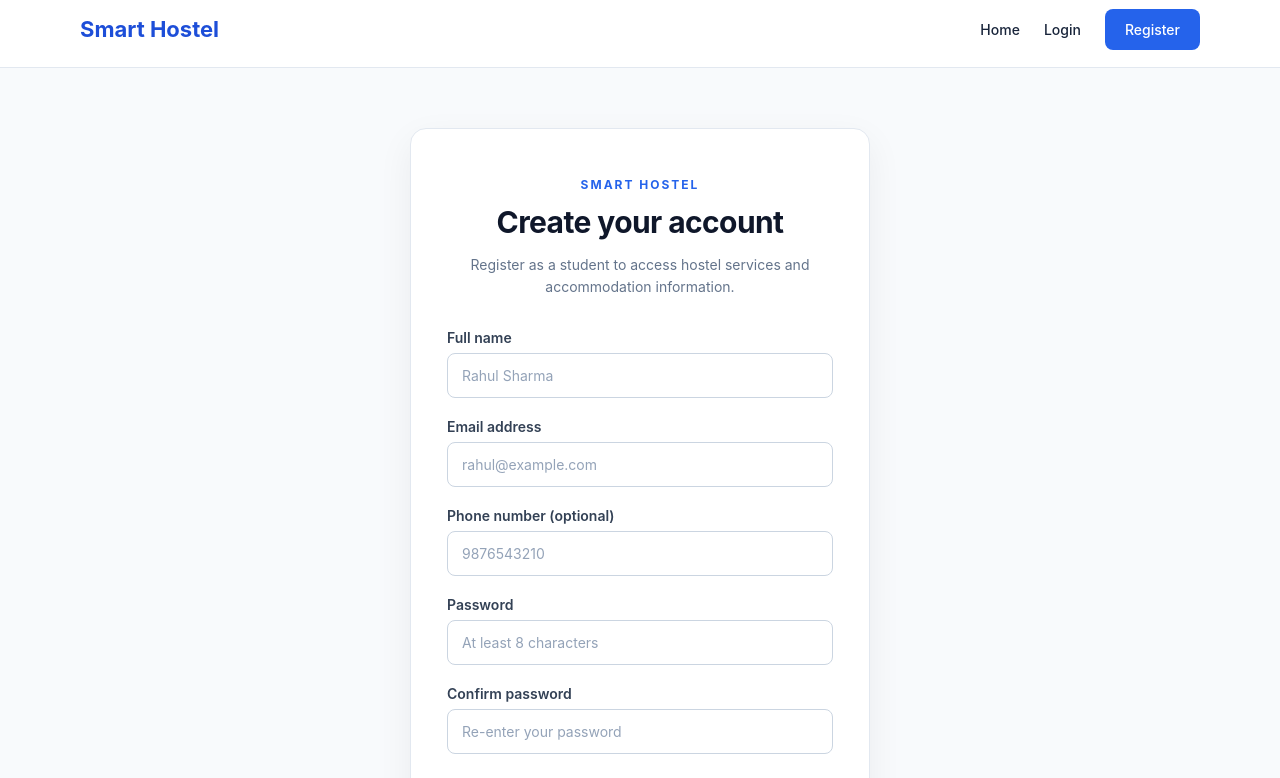
Test case: Authentication integration › registers a student and opens the login page
This screenshot has width=1280, height=778.
Expected: the heading "Create your account" is shown, x1=496 y1=204 x2=783 y2=240
Type "New Student" into the field labelled "Full name" at (640, 375), box x1=447 y1=353 x2=833 y2=398
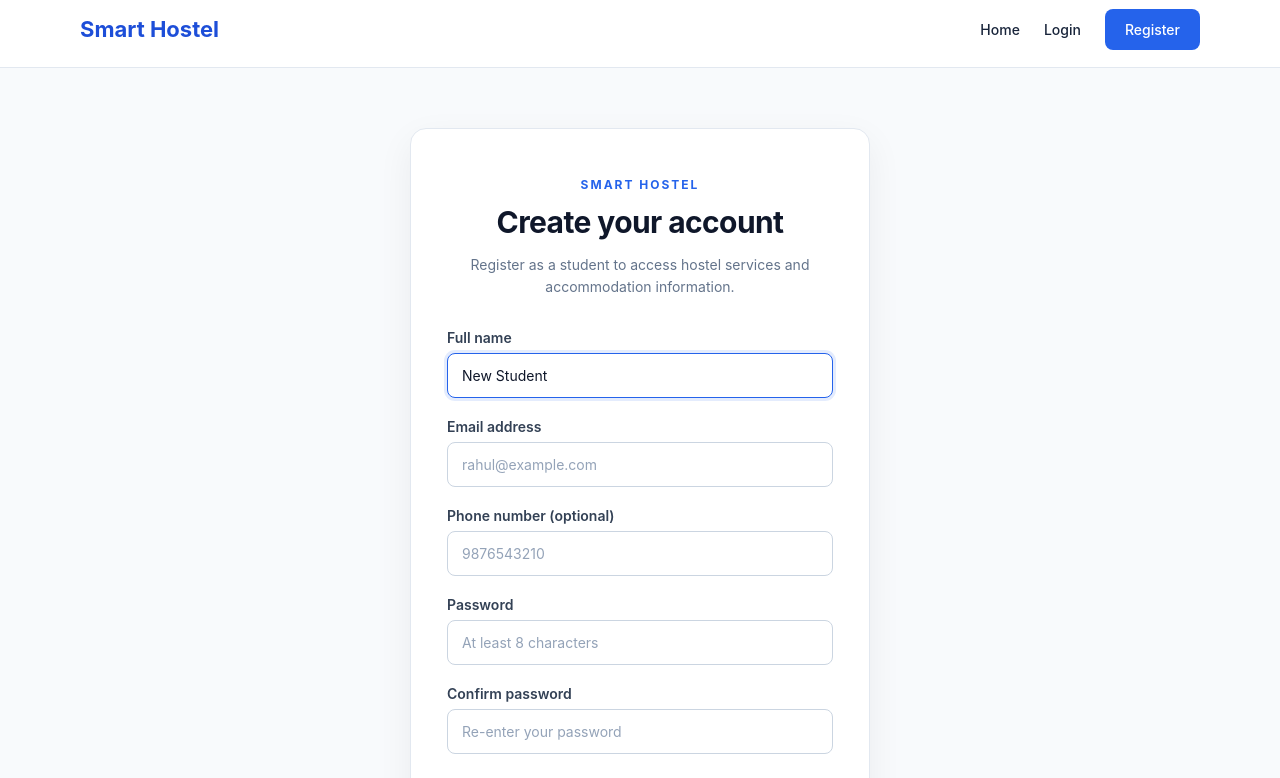
Type "new.student@example.com" into the field labelled "Email address" at (640, 464), box x1=447 y1=442 x2=833 y2=487
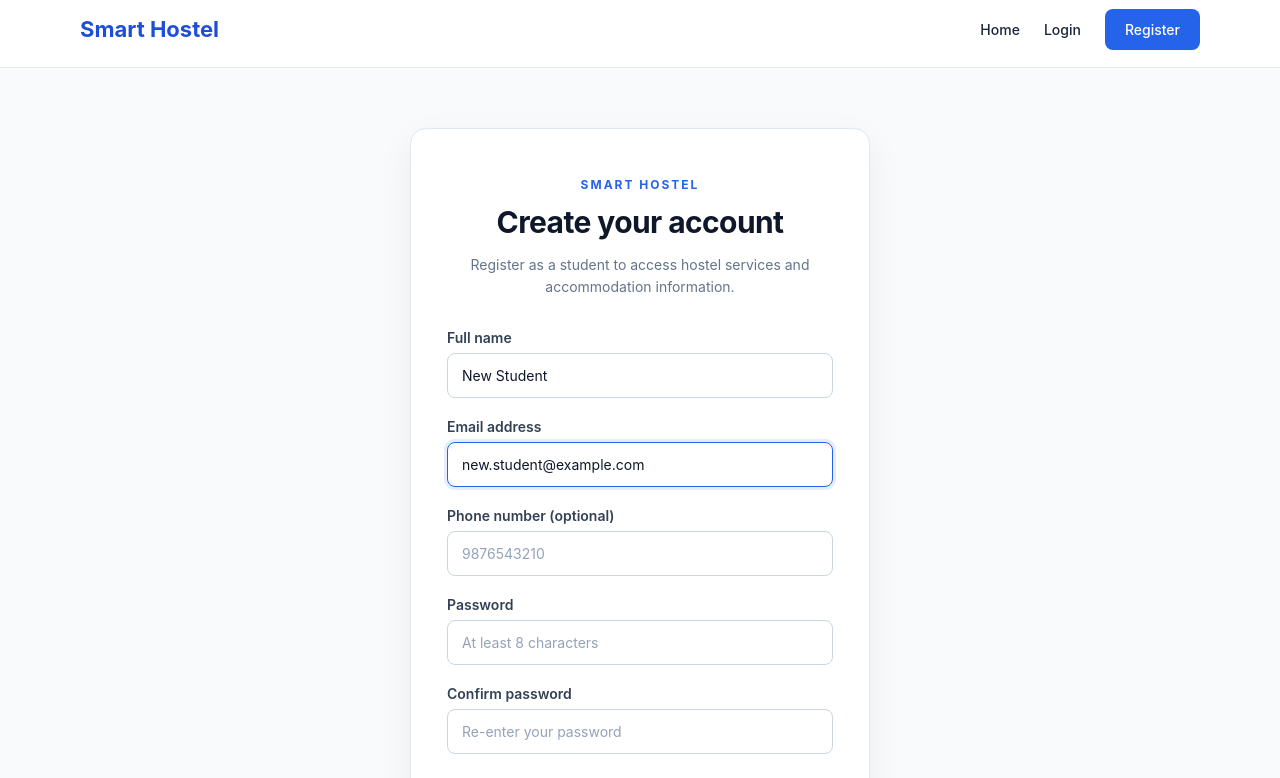
Type "NewPass@123" into the password field labelled "Password" at (640, 642), box x1=447 y1=620 x2=833 y2=665
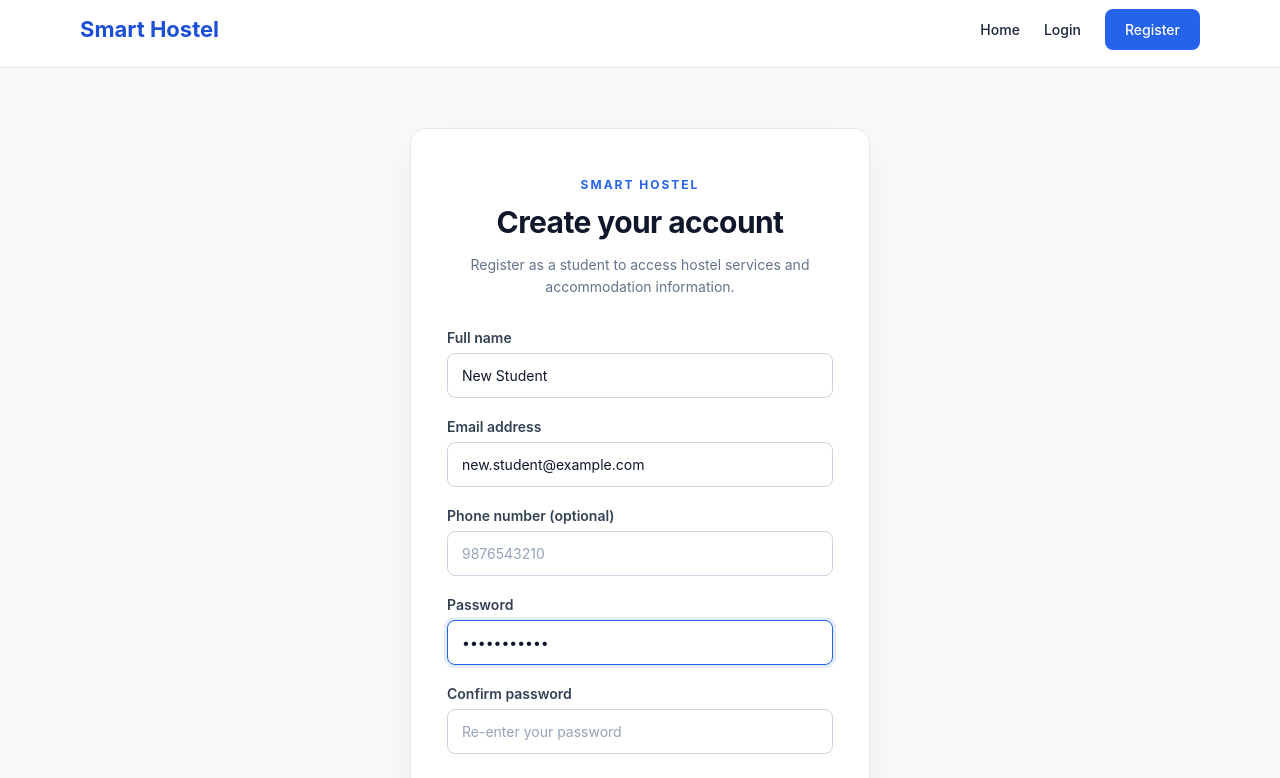
Type "NewPass@123" into the password field labelled "Confirm password" at (640, 731), box x1=447 y1=709 x2=833 y2=754
(page scrolled)
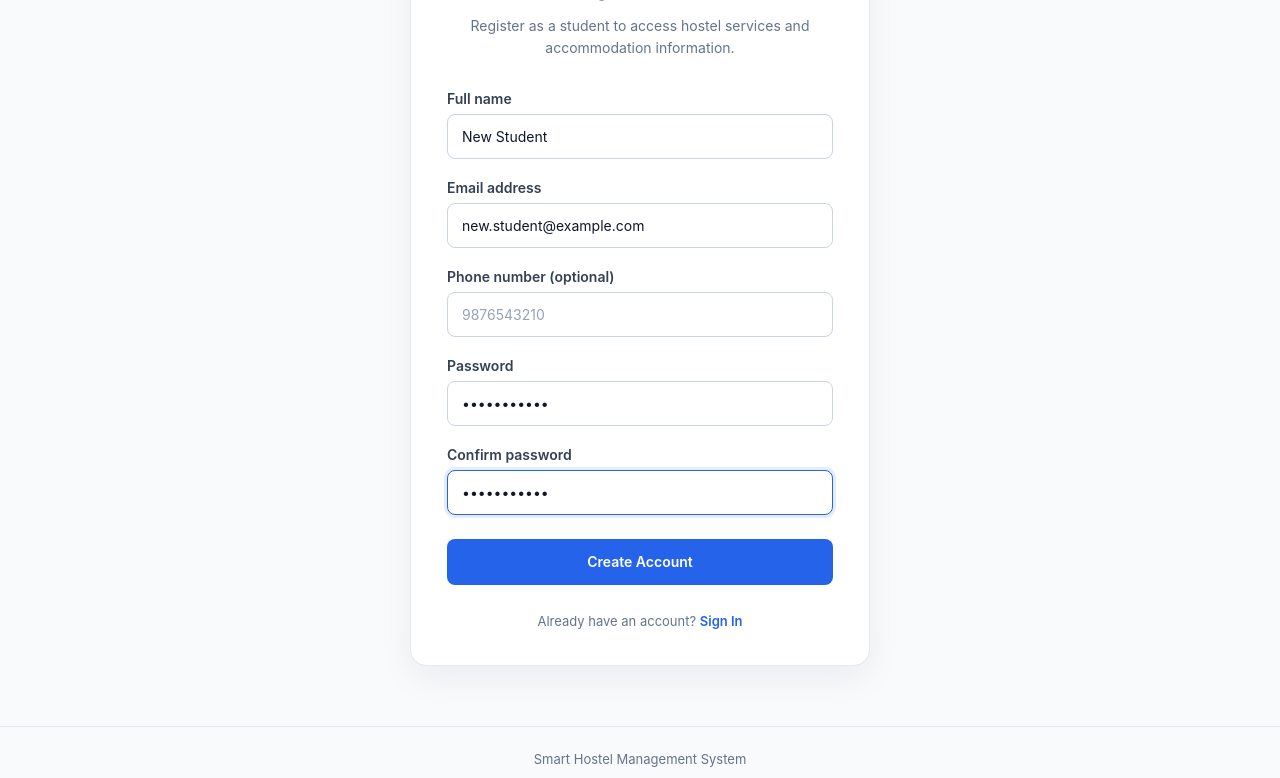
Click the button "Create Account" at (640, 562), box x1=447 y1=539 x2=833 y2=585
(page scrolled)
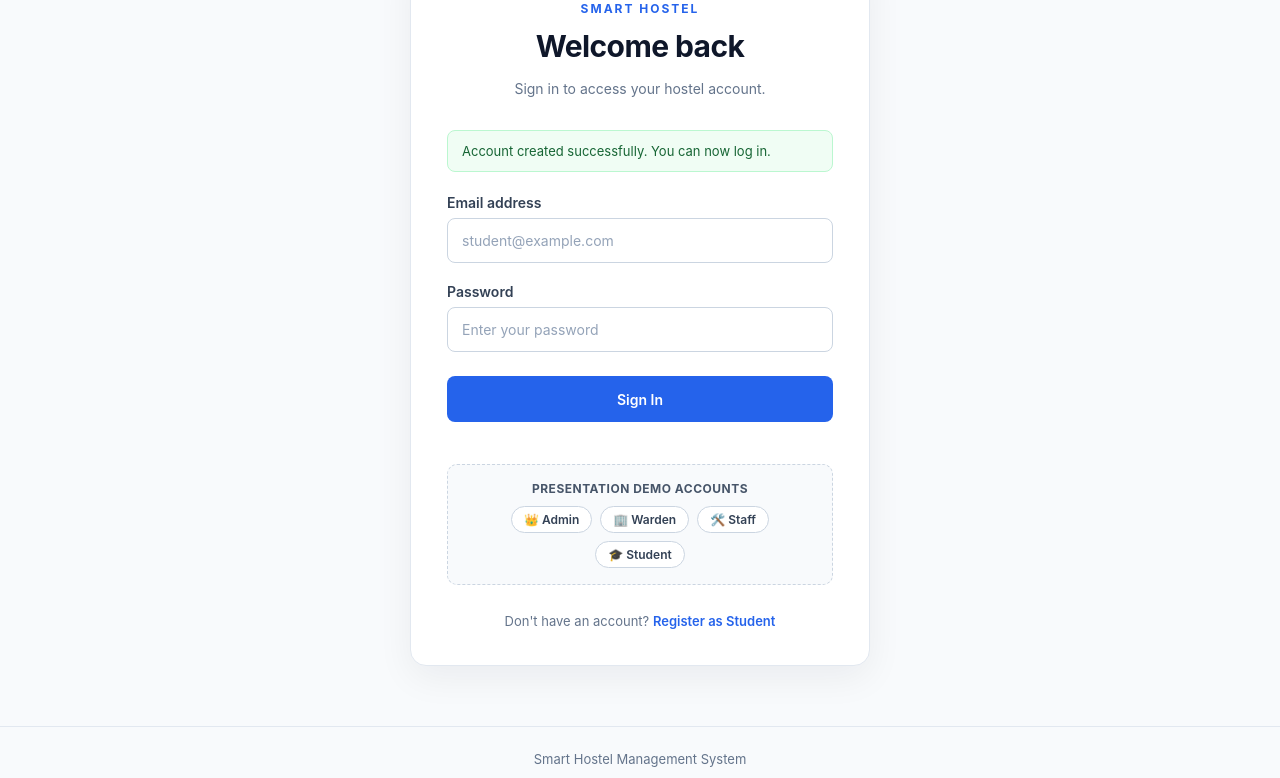
Expected: the text "Account created successfully. You can now log in." is shown, x1=447 y1=130 x2=833 y2=172
